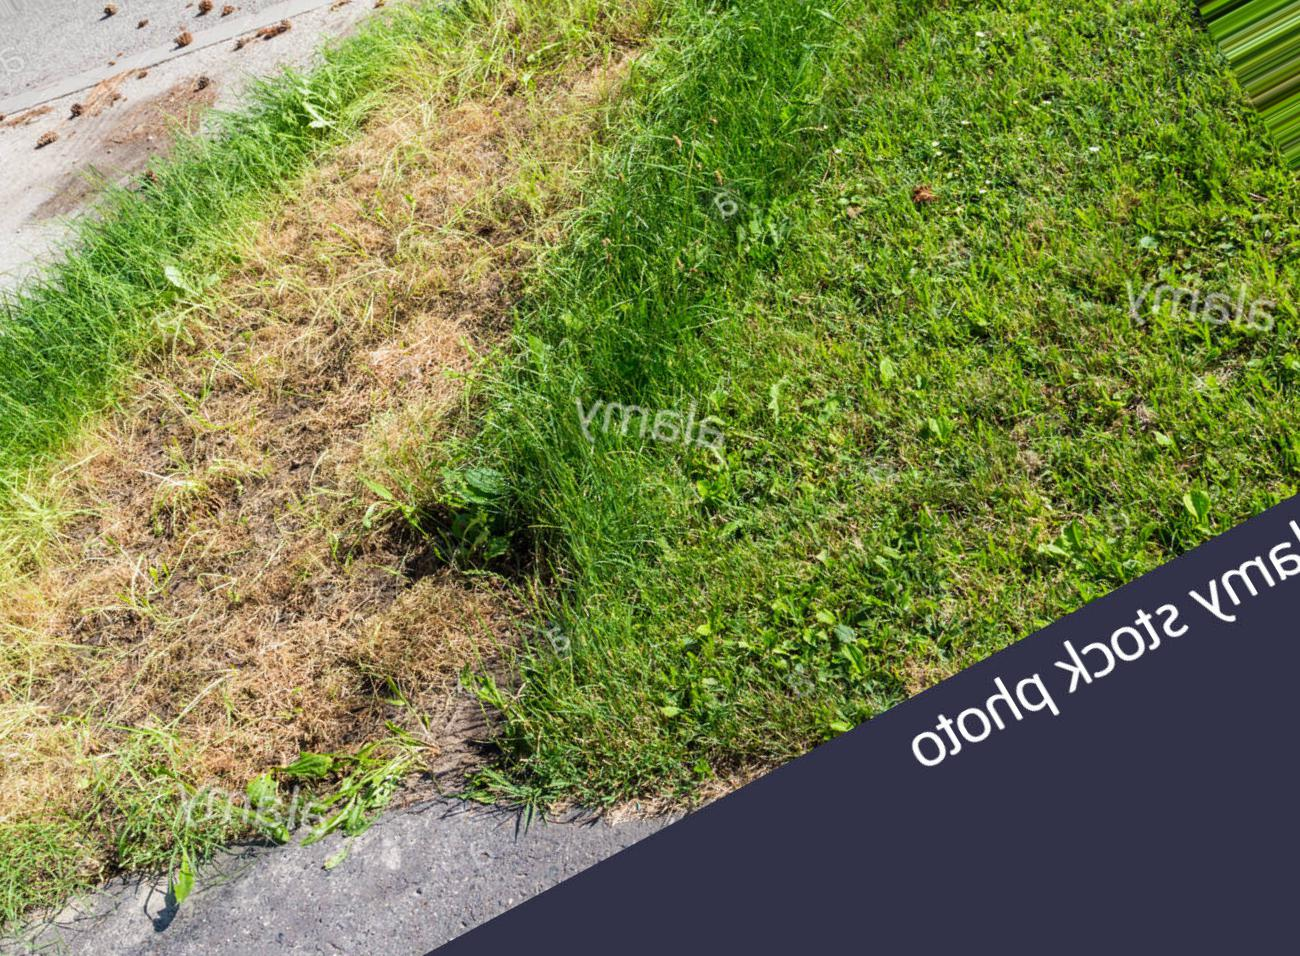patch: (25, 536, 457, 743), (87, 408, 419, 639), (227, 256, 522, 456), (334, 113, 570, 267)
